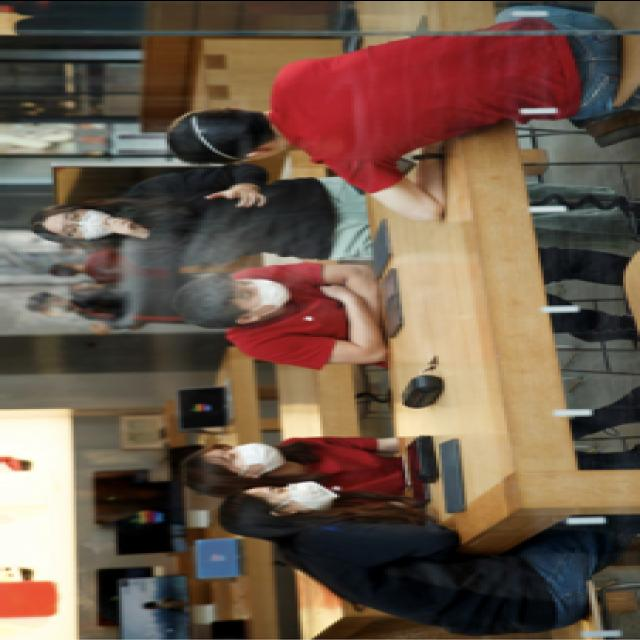with_mask: (261, 478, 337, 508), (230, 275, 286, 312), (215, 440, 278, 470), (54, 206, 108, 236)
